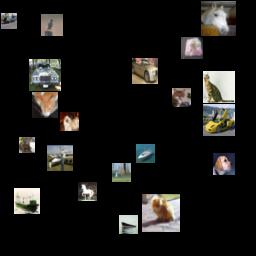airplane: (47, 145, 73, 171)
automobile: (203, 104, 235, 136), (29, 59, 61, 91), (132, 58, 158, 84), (1, 13, 17, 29)
bird: (41, 14, 63, 36)
cat: (142, 194, 180, 232), (203, 71, 235, 103), (32, 92, 58, 118), (172, 88, 191, 107)
deer: (112, 163, 131, 182)
dog: (213, 153, 235, 175), (181, 37, 203, 59), (60, 112, 79, 131), (19, 137, 35, 153)
ship: (14, 188, 40, 214), (119, 215, 138, 234), (136, 144, 155, 163)
